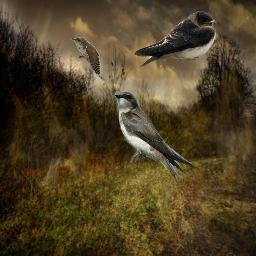Cuckoo: (70, 37, 100, 91)
Swallow: (114, 91, 196, 181), (134, 11, 217, 68)
